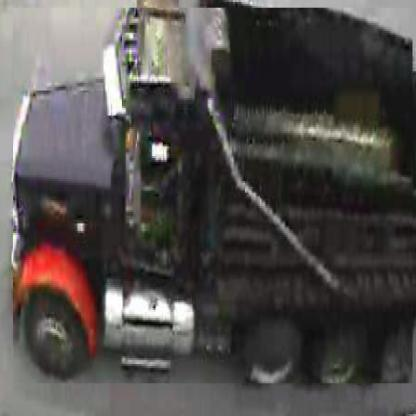truck: (13, 9, 414, 386)
